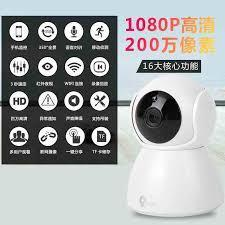maru: (131, 76, 218, 149)
